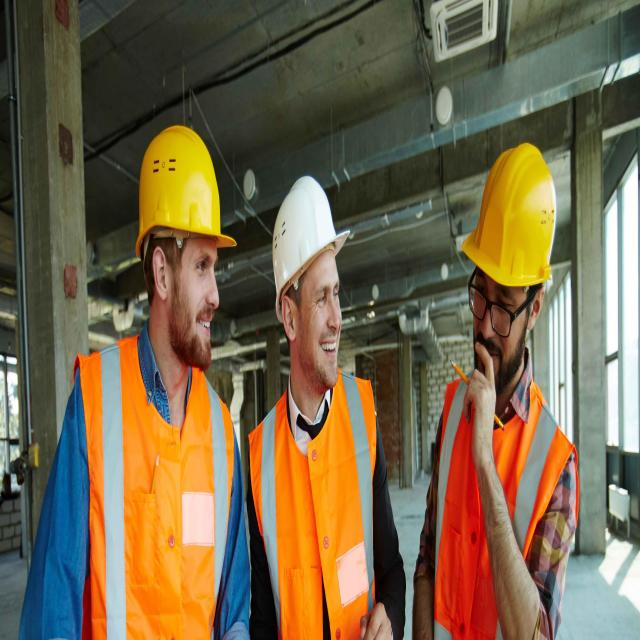Reflective-Jacket: (71, 333, 237, 640), (430, 360, 578, 640), (248, 370, 382, 640)
Safety-Helmet: (458, 134, 560, 288), (133, 116, 238, 258), (270, 165, 348, 305)
